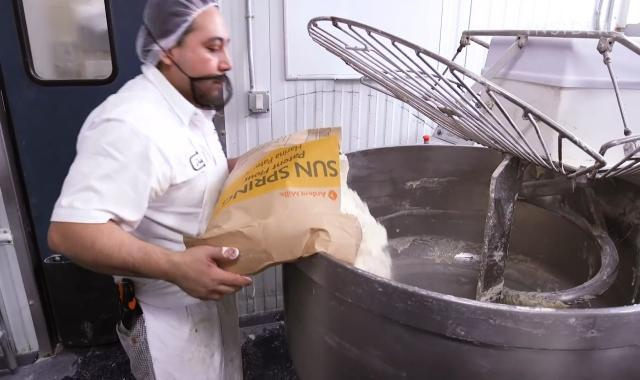Apron: (131, 67, 250, 380)
Hairnet: (136, 0, 224, 70)
Mask: (181, 26, 280, 73)
No_Glove: (164, 234, 255, 317)
